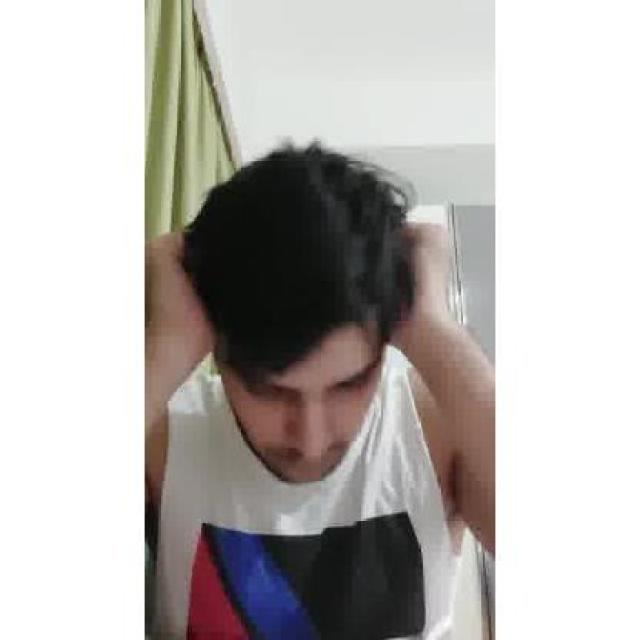inattentif: (210, 140, 396, 482)
